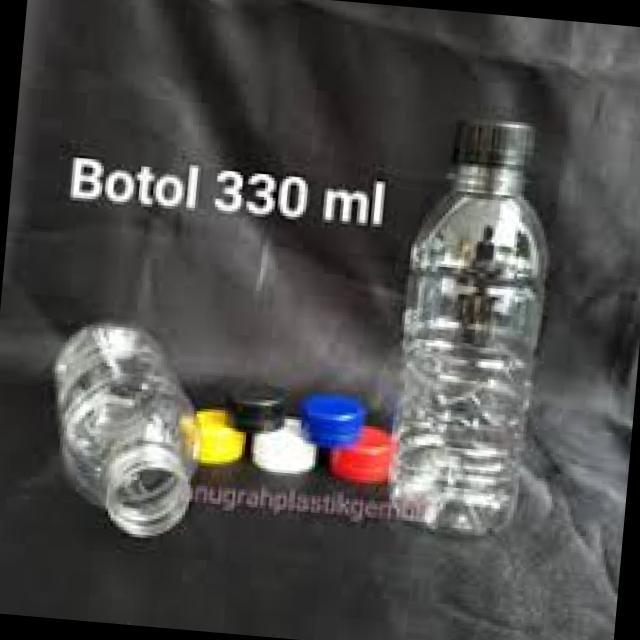good: (368, 104, 602, 556), (2, 310, 231, 548)
